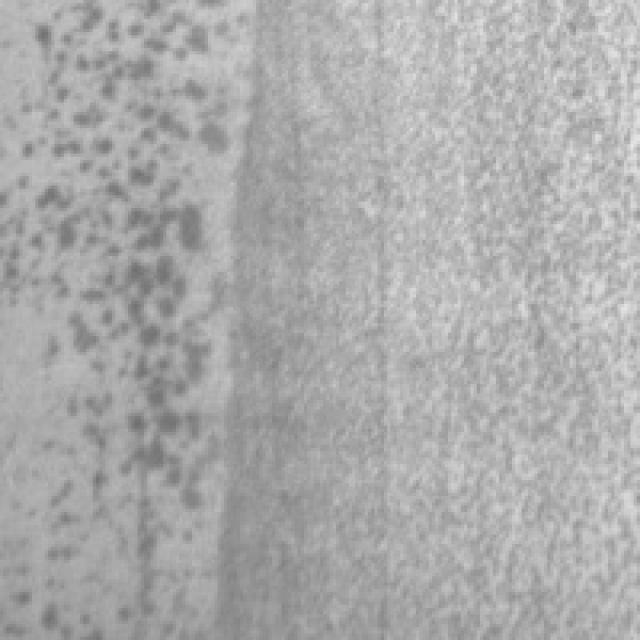pitted_surface: (243, 0, 637, 634), (3, 0, 215, 634)
